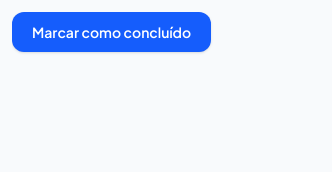
it: LessonCompleteButton › logado envia a conclusão e confirma na tela
Click the button "Marcar como concluído": (112, 32) [12,12,211,52]
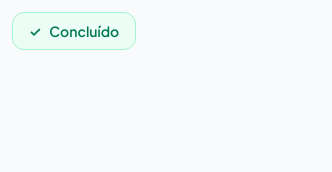
Expected: the message shows "Concluído", [49,22,119,40]
